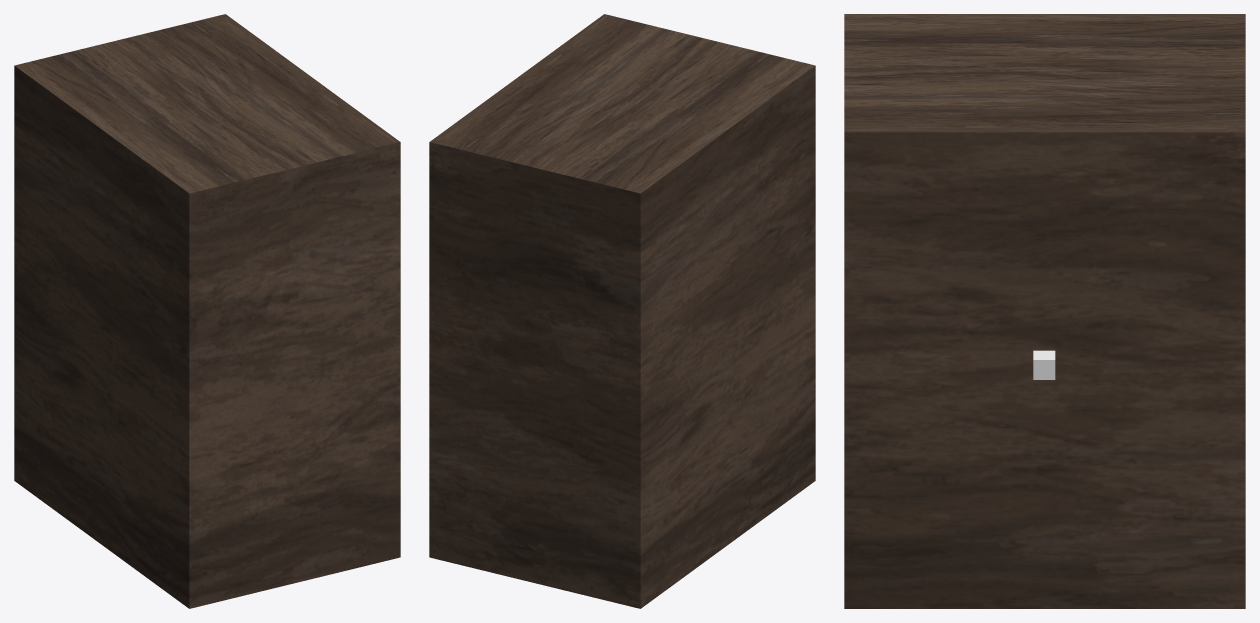
Rendered from rack_3.obj.
The picture shows the model from 3 angles, left to right: view 1: azimuth 30°, elevation 25°; view 2: azimuth 150°, elevation 25°; view 3: azimuth 270°, elevation 25°; orthographic projection. The views are drawn at different scales.
Visible parts, largest first — view 1: armario_Cube.007; view 2: armario_Cube.007; view 3: armario_Cube.007, puxador_3_Cube.026.
Boxes of the visible parts, x1,y1,x2,y2 form: armario_Cube.007: (14,14,400,608); armario_Cube.007: (429,14,815,608); armario_Cube.007: (844,14,1245,608); puxador_3_Cube.026: (1033,350,1055,379).
Size of the model in its own units: 0.8625 by 1.5 by 1.15.
